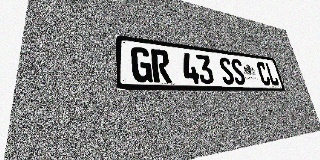3: (196, 54, 215, 84)
4: (180, 52, 200, 84)
C: (256, 61, 271, 85)
G: (130, 46, 153, 82)
L: (264, 62, 280, 86)
R: (150, 49, 172, 83)
S: (229, 58, 247, 85), (218, 57, 235, 84)
